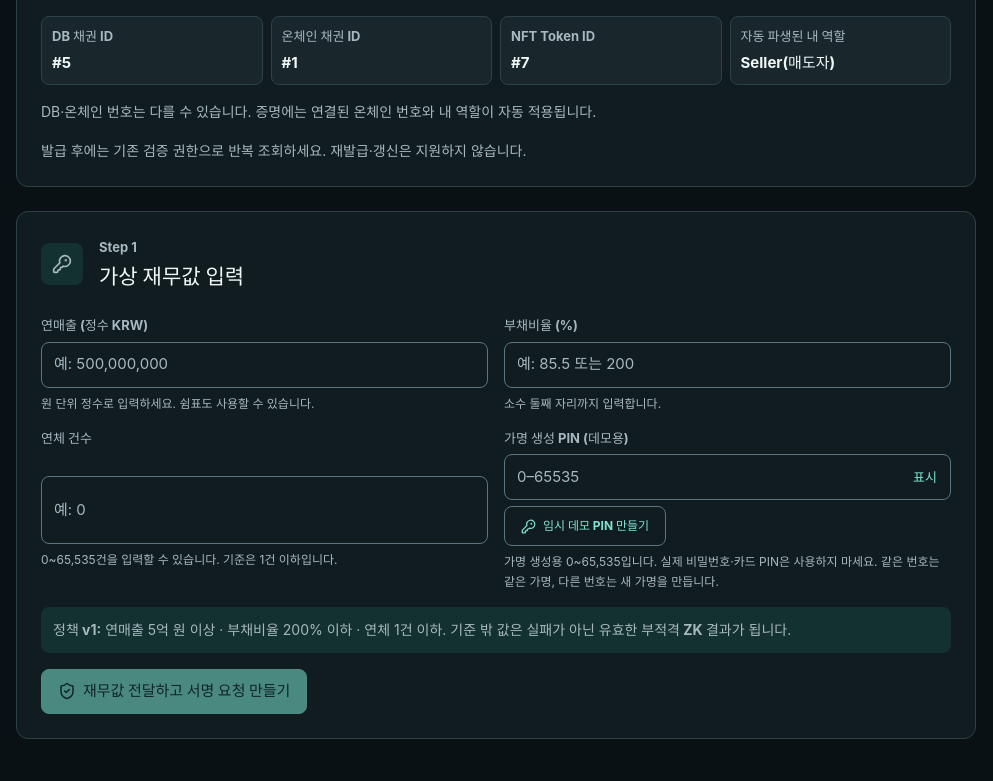
Test: MidnightProveView › generates a CSPRNG demo PIN and describes out-of-policy inputs as valid ineligible proofs
(page scrolled)
Click the button "임시 데모 PIN 만들기": (585, 526) [504,506,666,546]
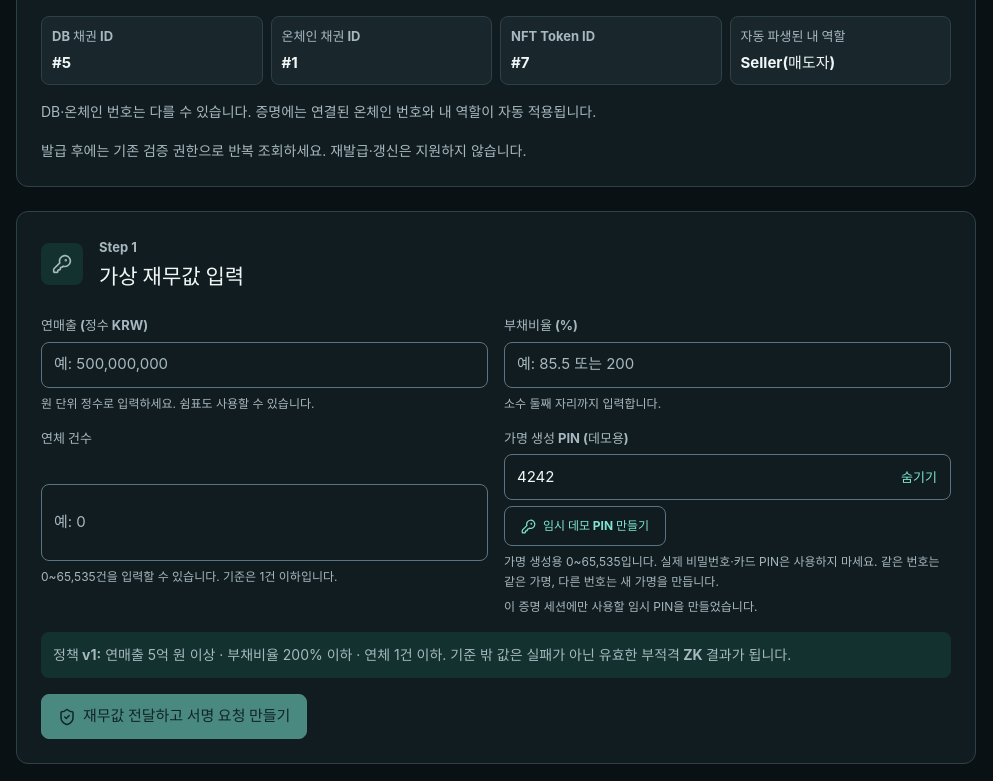
Expected: the text "같은 번호는 같은 가명" is shown, [504,554,940,589]
Expected: the field labelled "가명 생성 PIN (데모용)" holds "4242", [504,454,951,500]
